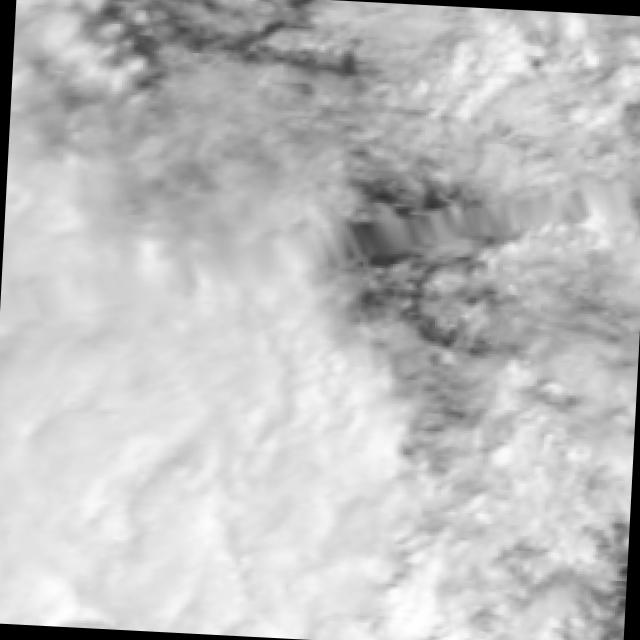CB: (0, 336, 334, 623)
